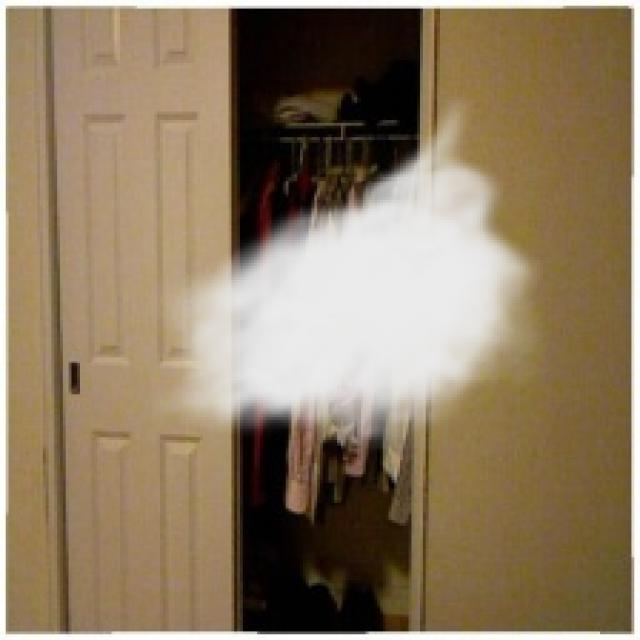smoke: (148, 91, 548, 452)
